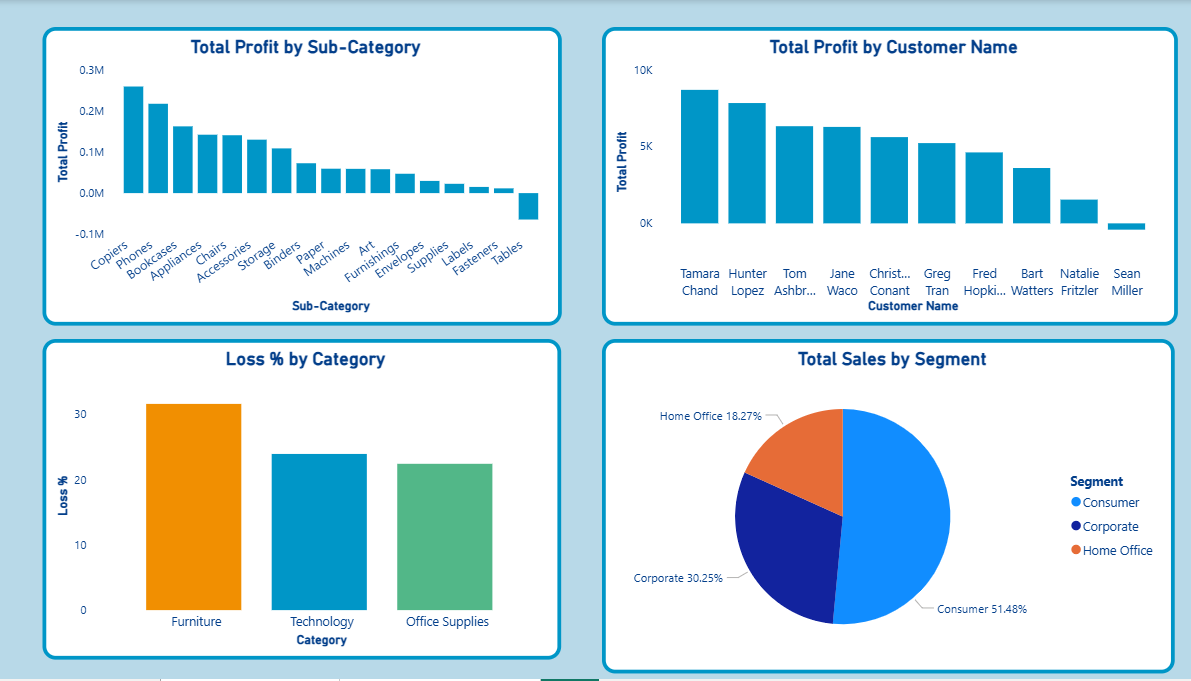

The page's visual inventory and layout, read from the dashboard file:
{"tool":"powerbi","page":{"name":"Detailed Analysis","canvas":[1280,720],"ordinal":1},"visuals":[{"type":"columnChart","fields":{"Category":["Global_Superstore_Final.Sub-Category"],"Y":["Global_Superstore_Final.Total Profit"]},"box":[46.1,28.6,550.4,316.5],"z":0},{"type":"pieChart","fields":{"Category":["Global_Superstore_Final.Segment"],"Y":["Global_Superstore_Final.Total Sales"]},"box":[639.4,359.5,607.6,354.7],"z":1000},{"type":"columnChart","fields":{"Category":["Global_Superstore_Final.Category"],"Y":["Global_Superstore_Final.Loss %"]},"box":[45.4,359.1,549.9,340.2],"z":2000},{"type":"columnChart","fields":{"Category":["Global_Superstore_Final.Customer Name"],"Y":["Global_Superstore_Final.Total Profit"]},"box":[639.4,28.6,610.8,316.5],"z":3000}]}

Visuals, with their boxes in screenshot pixels (x1, y1, x2, y2), scaled from the page's 1280x720 canvas onto the 1191x681 screenshot:
columnChart - Global_Superstore_Final.Sub-Category x Global_Superstore_Final.Total Profit: <box>43,27,555,326</box>
pieChart - Global_Superstore_Final.Segment x Global_Superstore_Final.Total Sales: <box>595,340,1160,676</box>
columnChart - Global_Superstore_Final.Category x Global_Superstore_Final.Loss %: <box>42,340,554,661</box>
columnChart - Global_Superstore_Final.Customer Name x Global_Superstore_Final.Total Profit: <box>595,27,1163,326</box>
